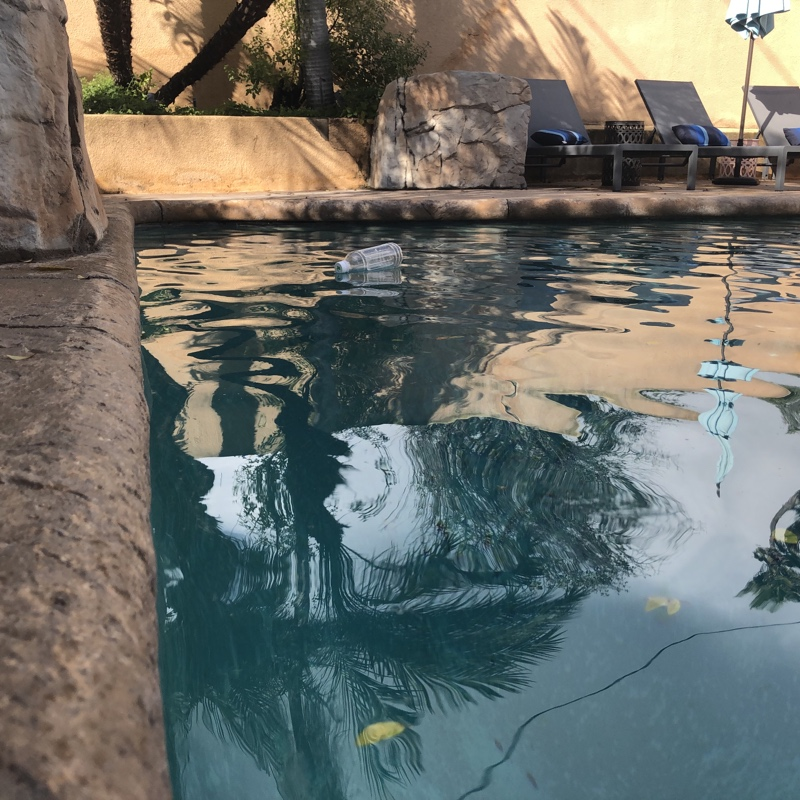Plastic Bottle: (334, 239, 405, 278)
